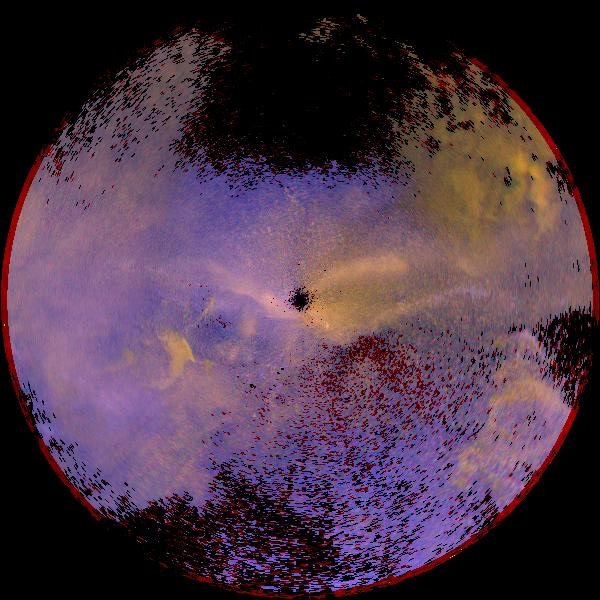roost: (114, 317, 210, 413), (66, 332, 156, 422), (147, 342, 237, 432)
